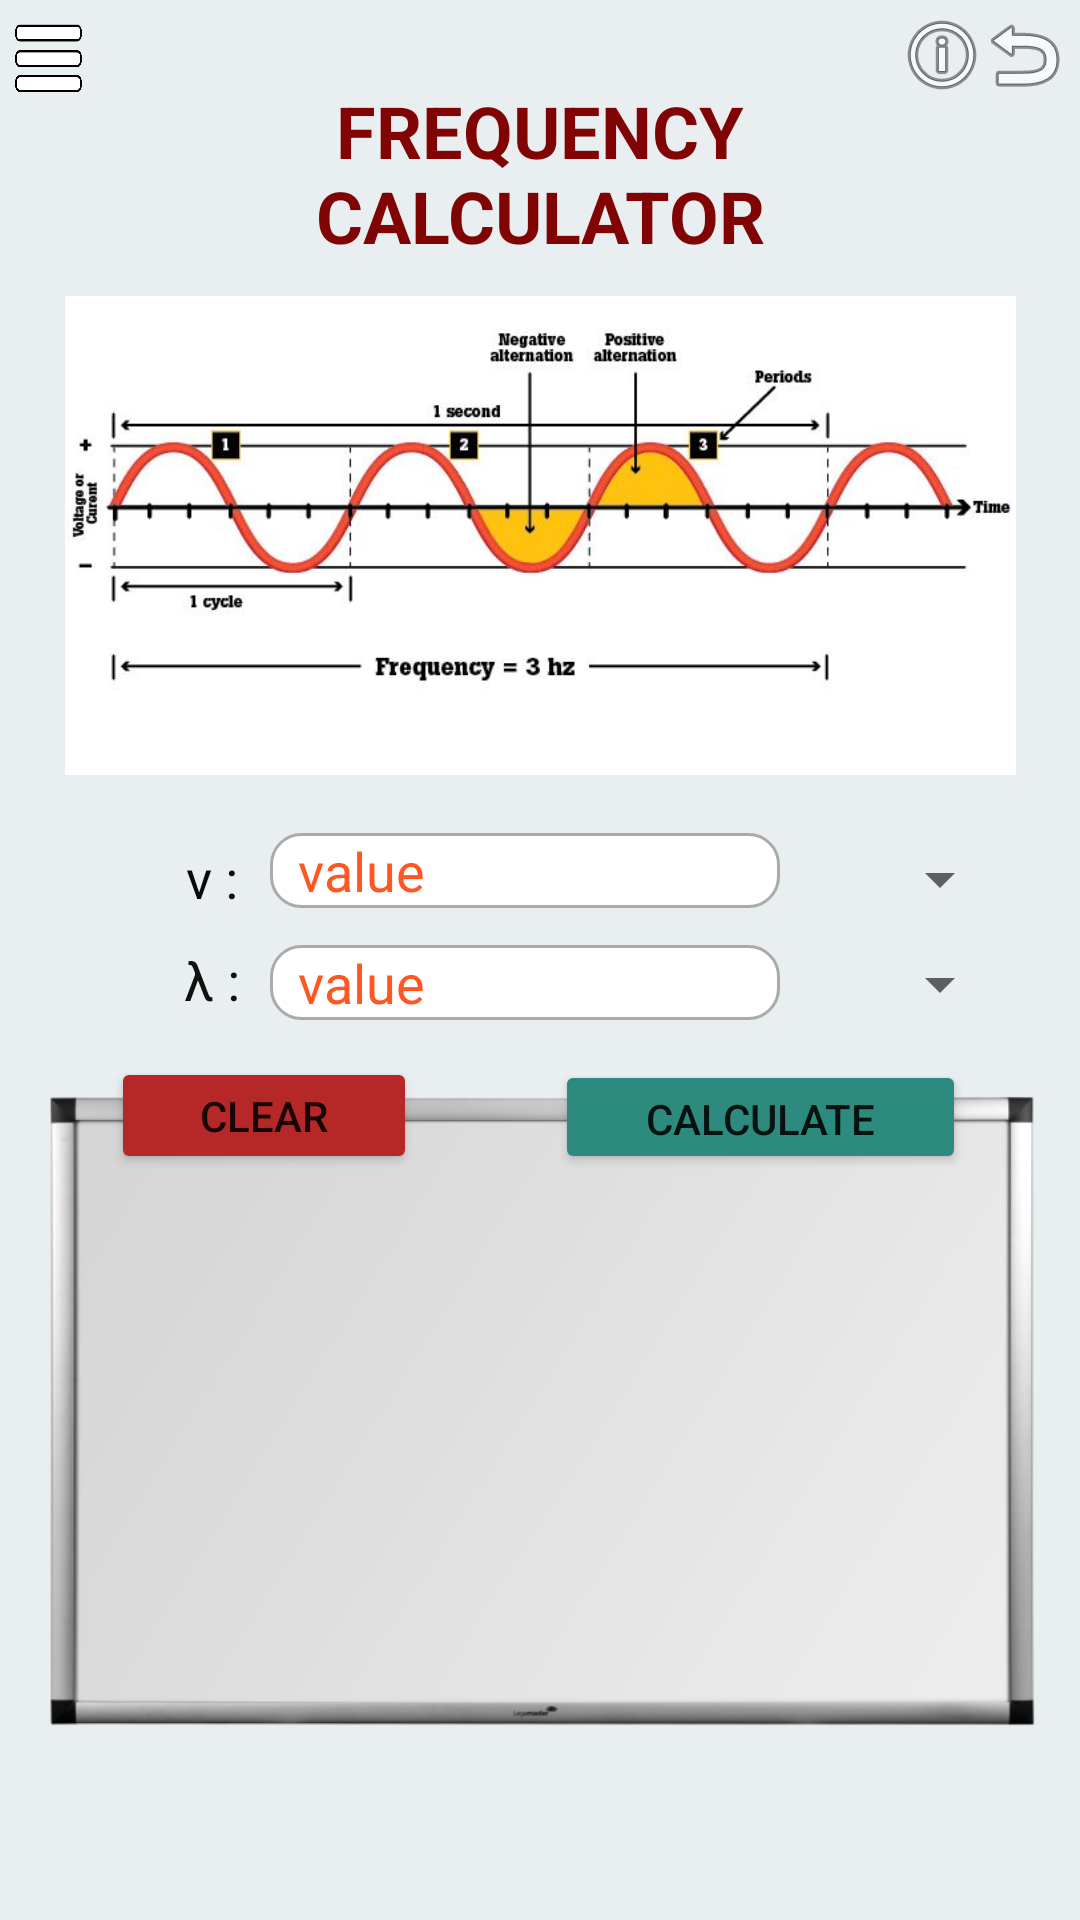

Icon click points for this 1080px x 1920px phone screenshot, format (x,y):
info details: (942,55)
menu: (48,58)
revert: (1025,55)
